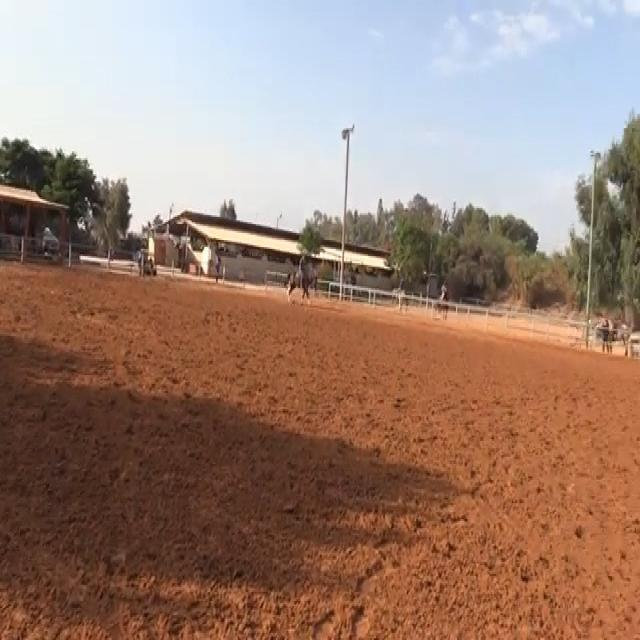horse: (283, 254, 319, 304)
